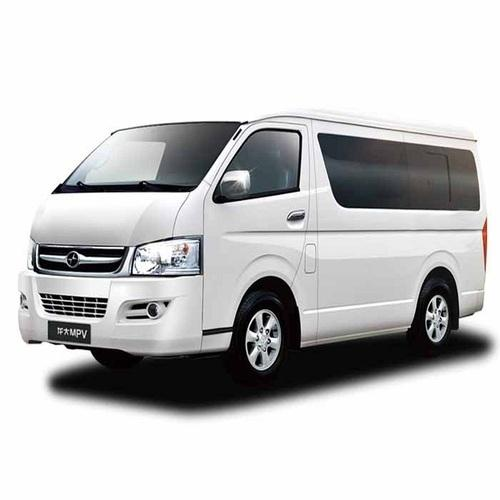van: (18, 107, 488, 384)
